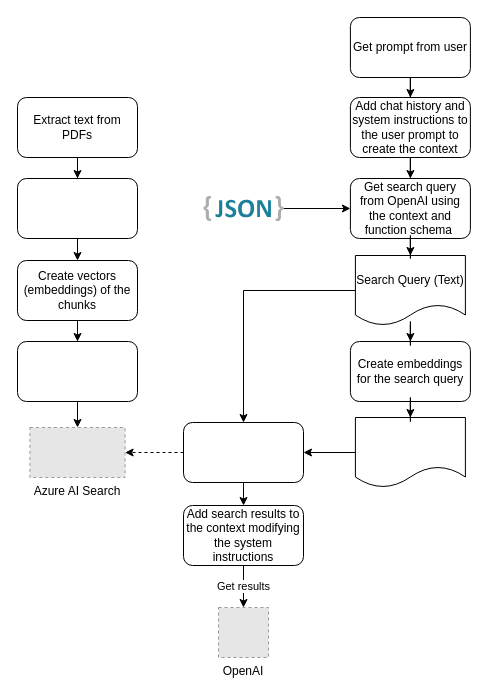
Image size: 488x696. Some labels were removed from this diagram. Grey dashed boxes stand in for pictures. Here are the shapes that lost their labels. From the top down, the centre of each, then its label:
(77,208): Split text into chunks
(243,208): Function Schema
(77,371): Add these chunks and their vectors to the AI Search index
(243,452): Query AI Search using both text and embedding search query
(409,452): Search Query (Embedding)
